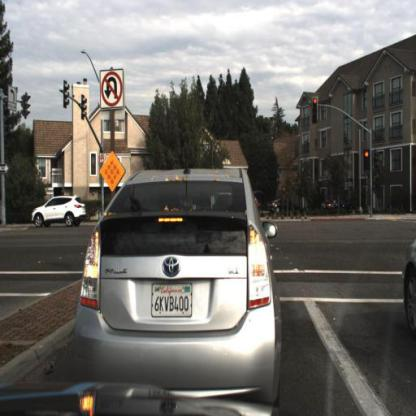car: (76, 170, 283, 399), (389, 206, 416, 354), (32, 194, 88, 231), (266, 191, 297, 223), (320, 191, 347, 220)
trafficLight-Red: (309, 97, 319, 131), (363, 145, 373, 172)
